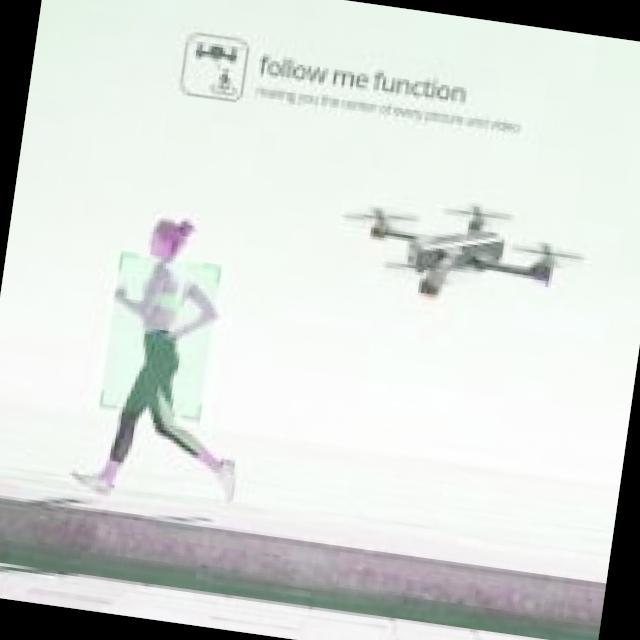drone: (320, 166, 612, 332)
